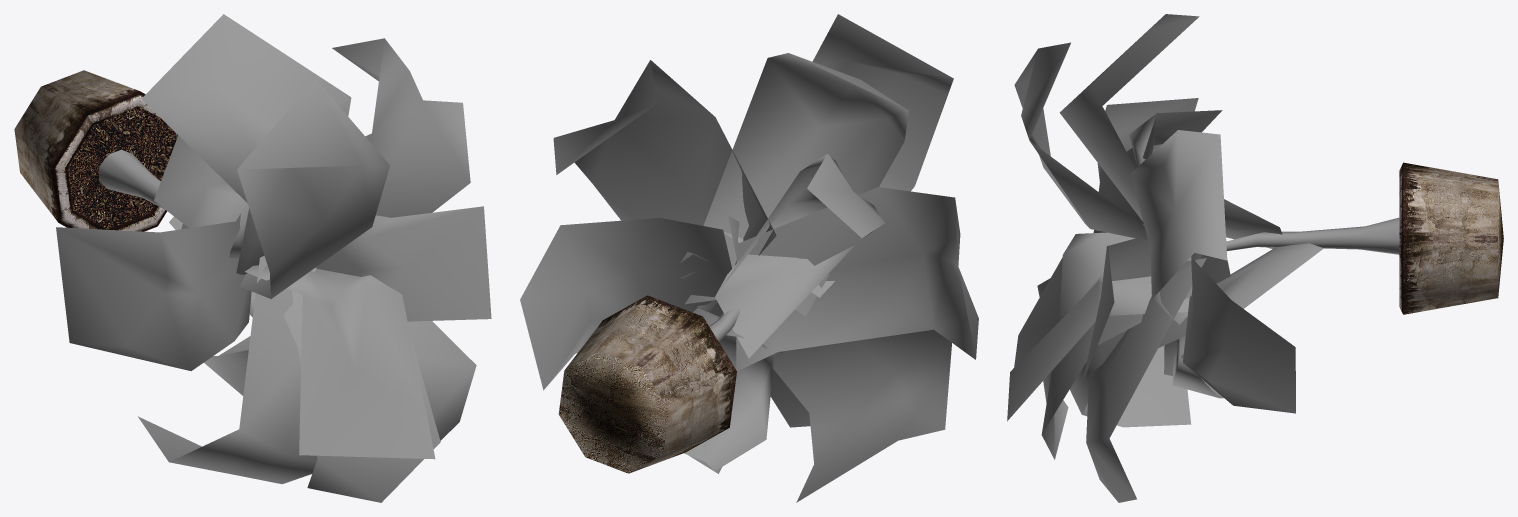
Rendered from House_old_palm_leaf_lod2.fbx.
3 renders of one model, left to right at view 1: azimuth 30°, elevation 25°; view 2: azimuth 150°, elevation 25°; view 3: azimuth 270°, elevation 25°, orthographic. The views are drawn at different scales.
Visible parts, largest first — view 1: House_old_palm_leaf_lod2; view 2: House_old_palm_leaf_lod2; view 3: House_old_palm_leaf_lod2.
Part boxes in pixels (x1,y1,x2,y2): House_old_palm_leaf_lod2: (14,14,491,502); House_old_palm_leaf_lod2: (520,14,978,502); House_old_palm_leaf_lod2: (1007,14,1503,502).
Size of the model in its own units: 85.06 by 95.76 by 98.88.
Materials: 3 (1 with a texture image).
